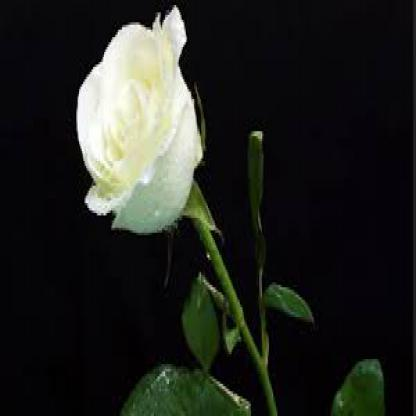Rose-Mawar: (73, 4, 204, 254)
